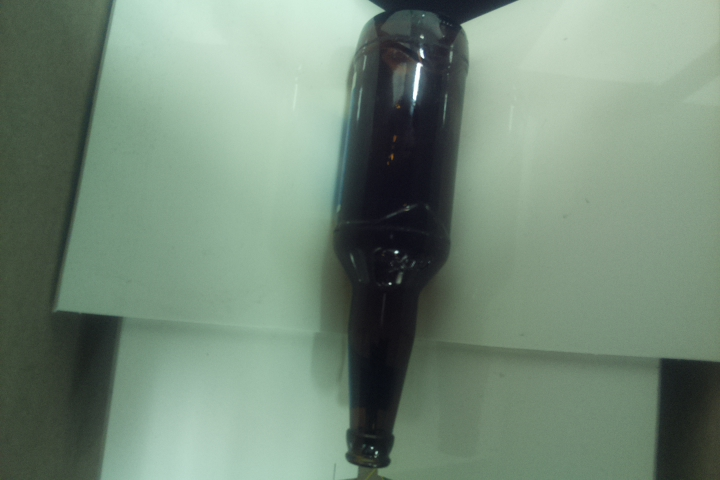makju: (327, 1, 471, 470)
